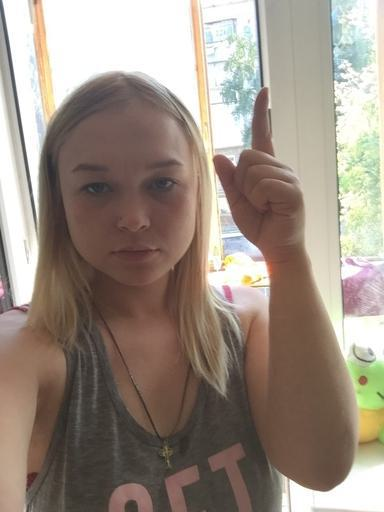one: (211, 85, 307, 255)
